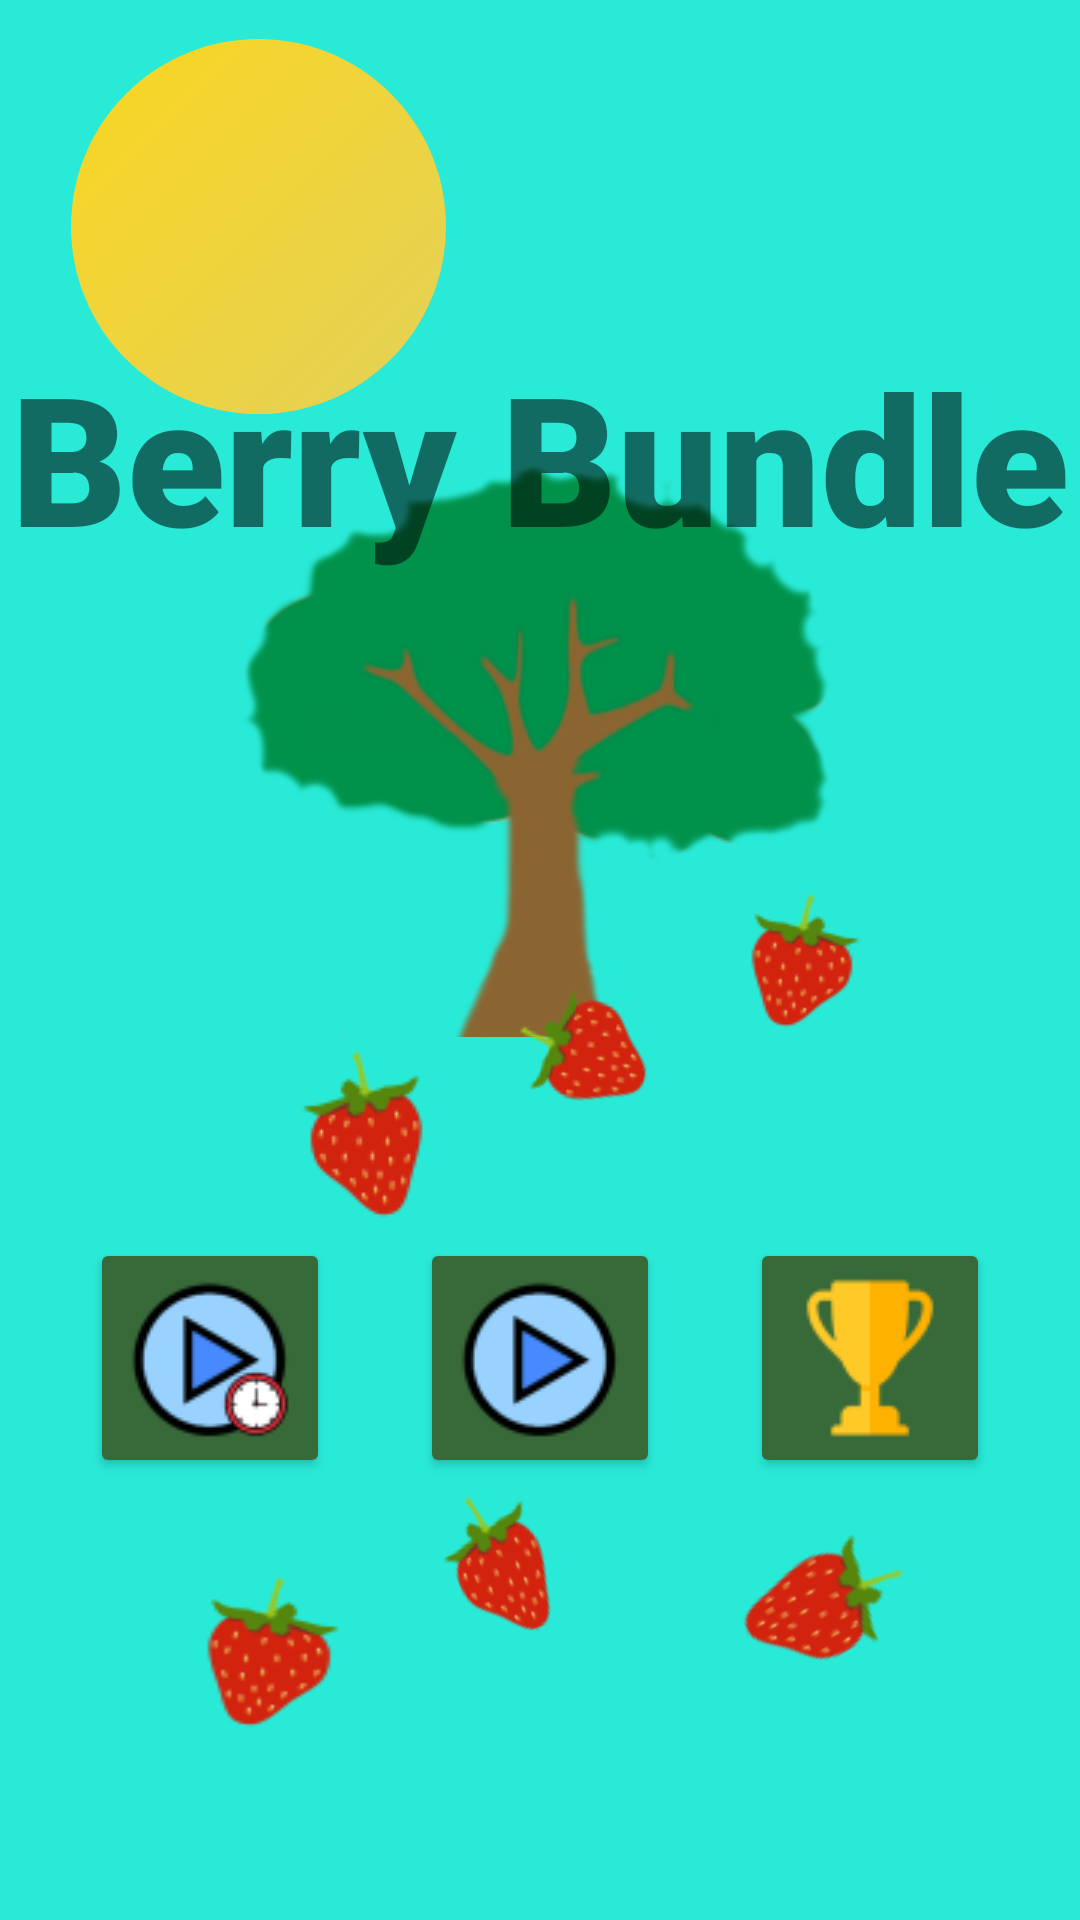

Screen size 1080px×1920px. Icon name, then its center in pixels as point (x, y):
play: point (540, 1360)
play short: point (209, 1360)
trophy: point (870, 1360)
